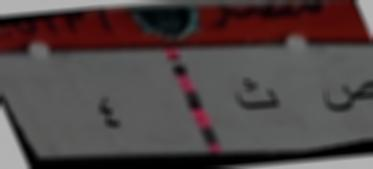4: (93, 90, 125, 134)
saad: (322, 76, 373, 114)
thaa: (231, 72, 282, 114)
